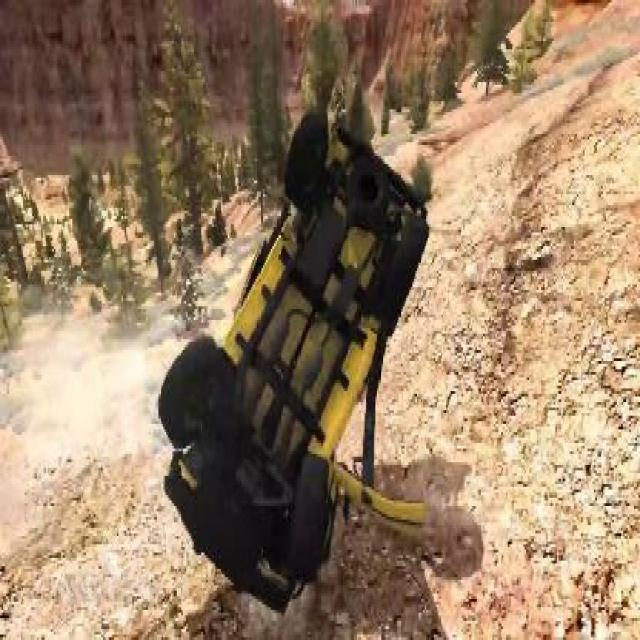accident: (151, 93, 431, 613)
